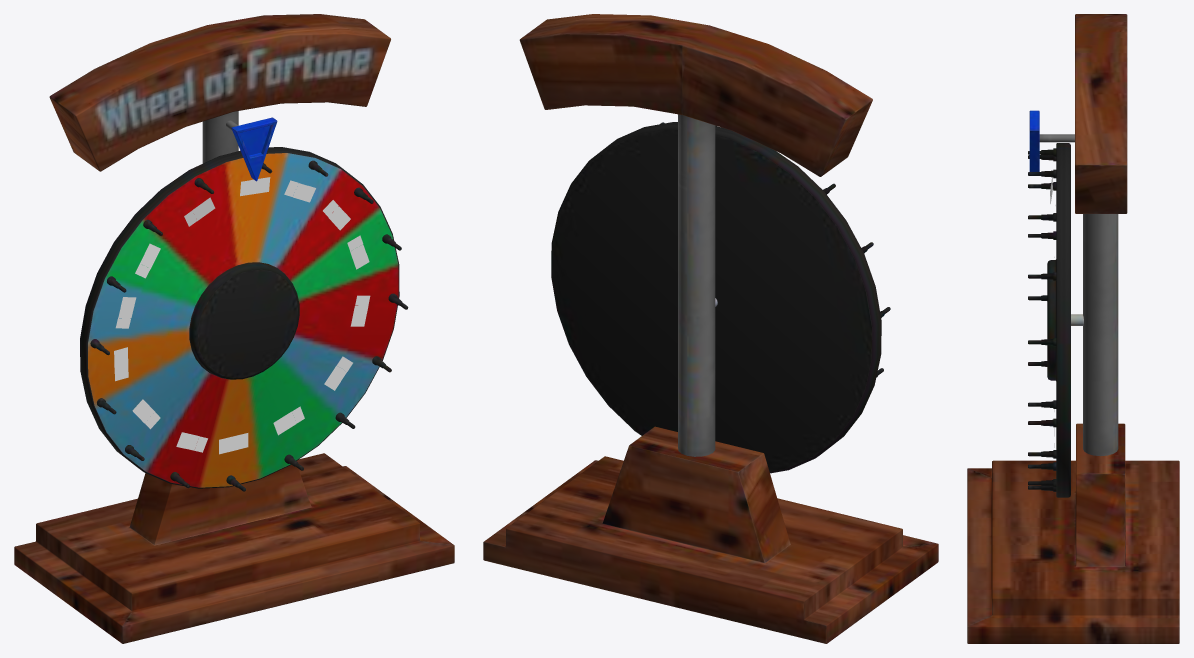
The model's file is wheel_of_fortune.glb.
The picture shows the model from 3 angles, left to right: view 1: azimuth 30°, elevation 25°; view 2: azimuth 150°, elevation 25°; view 3: azimuth 270°, elevation 25°; orthographic projection. The views are drawn at different scales.
Parts seen in each view (by area): view 1: Spin_Wheel_Stand_34, Spin_Wheel_2, Spin_Wheel_Needle_33; view 2: Spin_Wheel_Stand_34, Spin_Wheel_2; view 3: Spin_Wheel_Stand_34, Spin_Wheel_2, Spin_Wheel_Needle_33.
Boxes of the visible parts, x1,y1,x2,y2 form: Spin_Wheel_Stand_34: (14,14,454,643); Spin_Wheel_2: (80,147,408,491); Spin_Wheel_Needle_33: (226,117,277,181); Spin_Wheel_Stand_34: (483,14,938,643); Spin_Wheel_2: (551,122,890,473); Spin_Wheel_Stand_34: (967,14,1179,643); Spin_Wheel_2: (1028,143,1070,497); Spin_Wheel_Needle_33: (1029,110,1074,171).
Size of the model in its own units: 5.7 by 8.51 by 3.22.
Materials: 2 (1 with a texture image).
